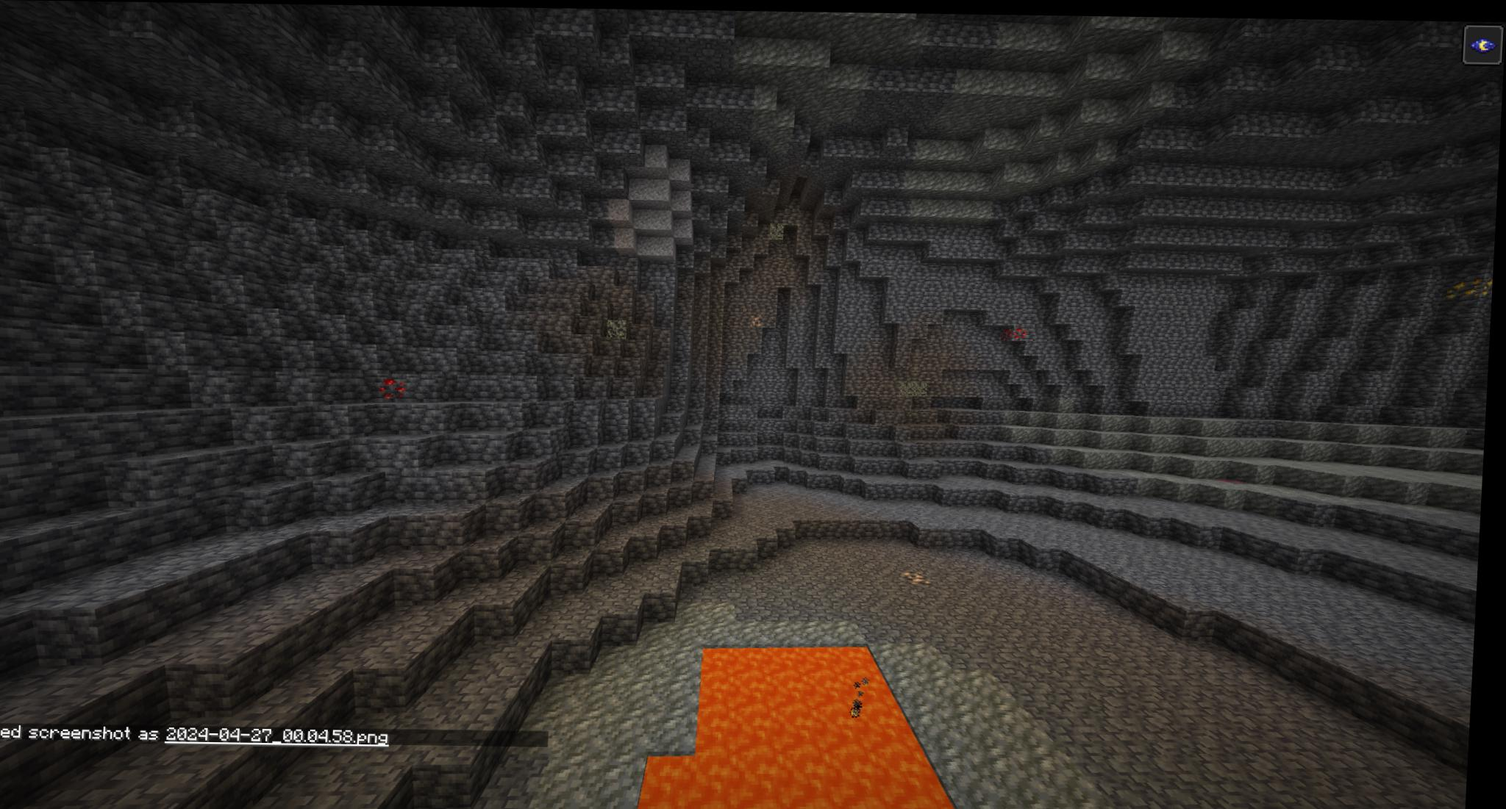gold ore: (1444, 269, 1496, 305)
iron ore: (907, 567, 932, 592)
redstone ore: (379, 371, 410, 397), (1005, 322, 1030, 341)
